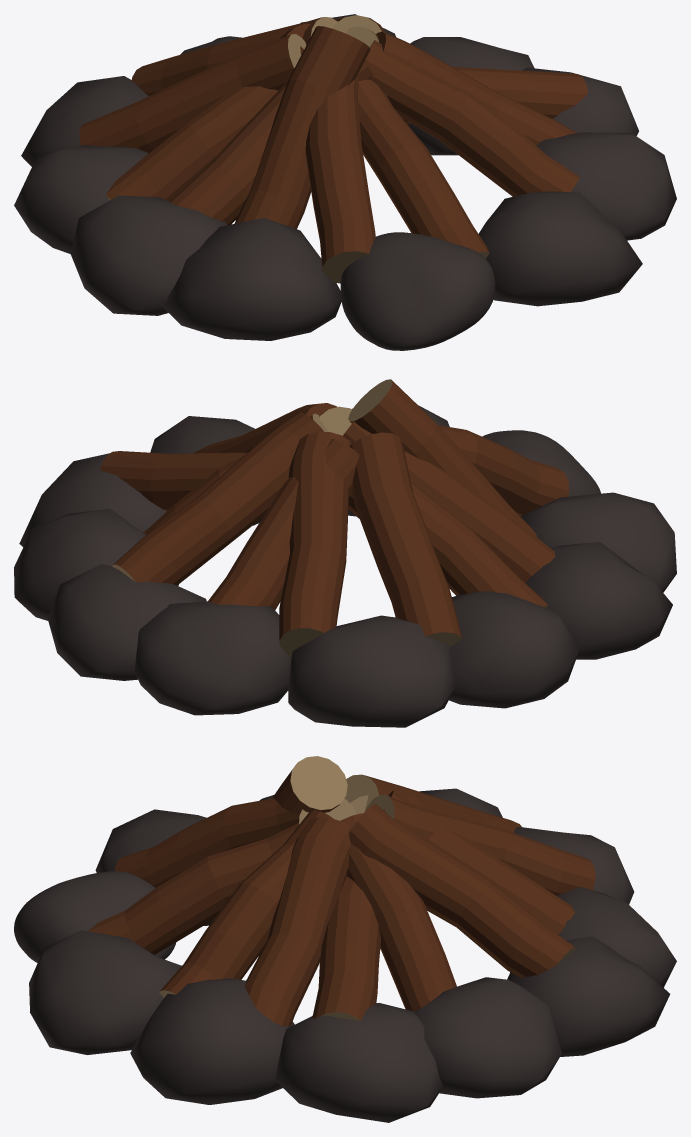
File: Campfire.fbx
3 renders of one model, top to bottom at view 1: azimuth 30°, elevation 25°; view 2: azimuth 150°, elevation 25°; view 3: azimuth 270°, elevation 25°, orthographic.
Visible parts, largest first — view 1: Campfire; view 2: Campfire; view 3: Campfire.
Part boxes in pixels (x1,y1,x2,y2): Campfire: (14,14,676,350); Campfire: (14,379,676,727); Campfire: (14,756,676,1122).
Size of the model in its own units: 1.52 by 1.49 by 0.5411.
